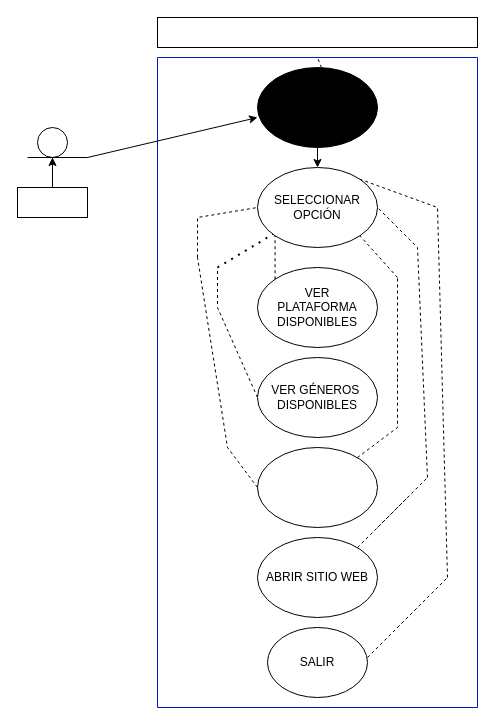
The diagram is 495 pixels wide and 725 high, and some of its shapes have lost their labels. Each missing label, with the centre of its shape:
USUARIO: the point at 52,202
VER TÍTUTLOS DISPONIBLES: the point at 317,487
WEB DE VIDEOJUEGOS: the point at 317,32
